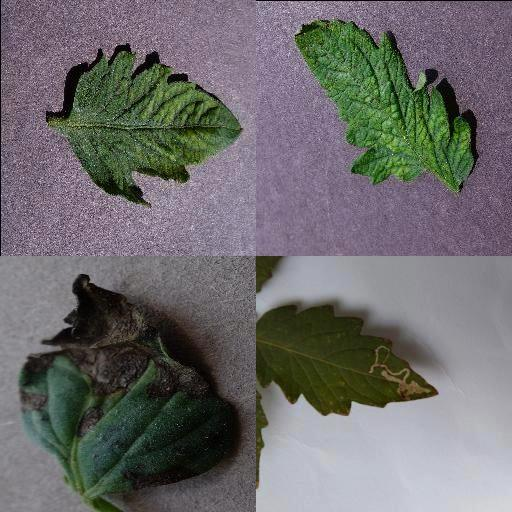Early Blight: (18, 271, 240, 501)
Leaf Miner: (257, 304, 441, 418)
Mosaic Virus: (293, 19, 473, 183), (62, 48, 244, 208)
